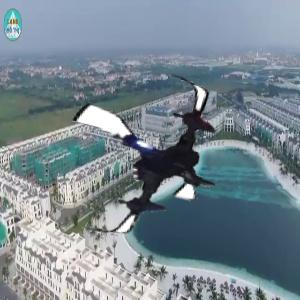drone: (51, 64, 235, 248)
